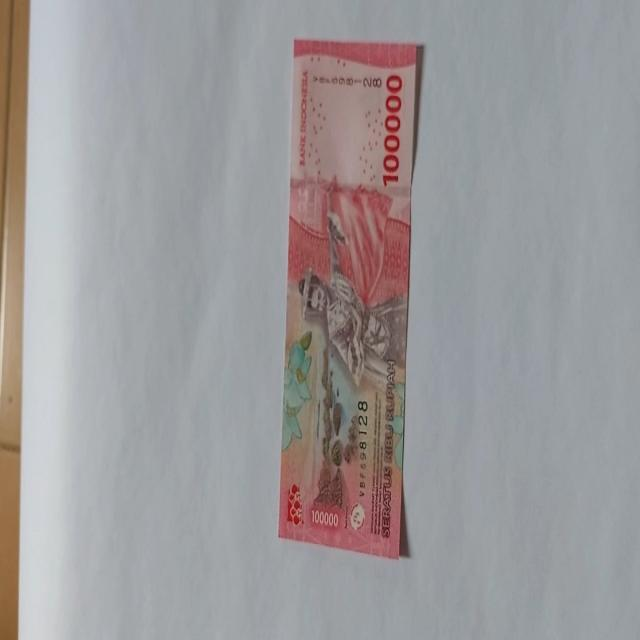seratus ribu rupiah: (278, 39, 422, 559)
